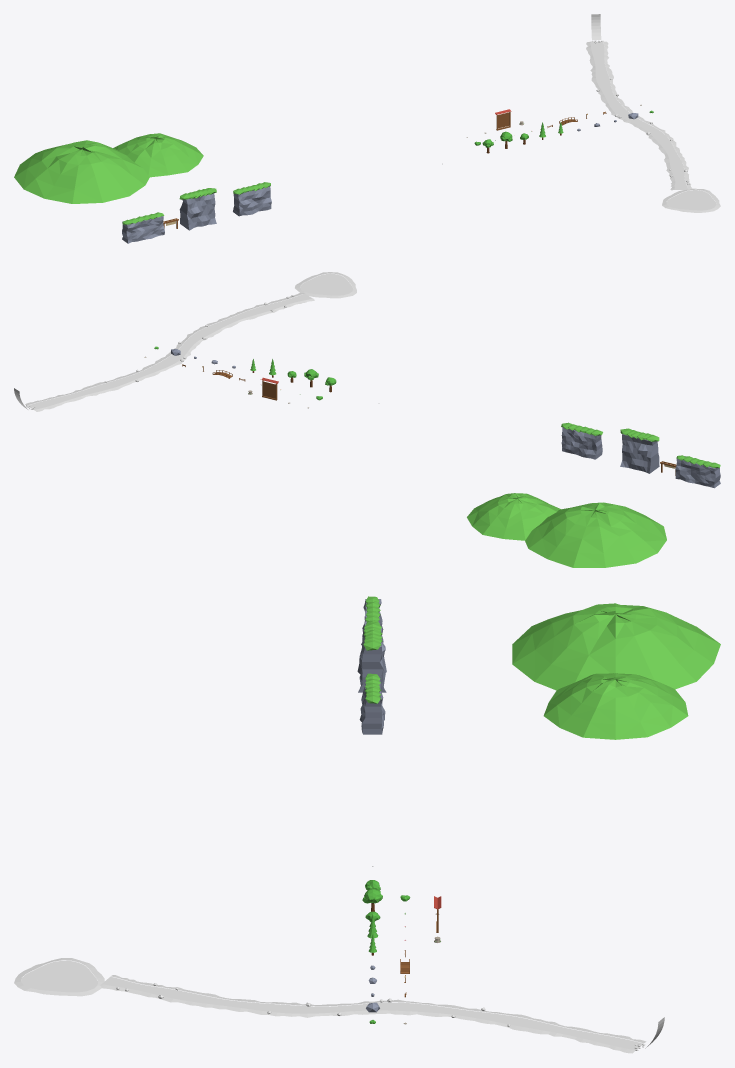
The model's file is MapKit.fbx.
3 views of the same model, one above another, from view 1: azimuth 30°, elevation 25°; view 2: azimuth 150°, elevation 25°; view 3: azimuth 270°, elevation 25° (orthographic). The views are drawn at different scales.
Visible parts, largest first — view 1: HillB_Grass, World_River_Water, HillA_Grass, World_River_Bank, CliffB_Rock, CliffA_Rock, CliffC_Rock; view 2: HillB_Grass, World_River_Water, HillA_Grass, World_River_Bank, CliffB_Rock, CliffA_Rock, CliffC_Rock; view 3: HillB_Grass, HillA_Grass, World_River_Water, World_River_Bank, CliffB_Rock, CliffA_Rock.
Part boxes in pixels (bbox=[...]): HillB_Grass: bbox=[14, 140, 149, 203]; World_River_Water: bbox=[590, 41, 716, 210]; HillA_Grass: bbox=[113, 133, 203, 177]; World_River_Bank: bbox=[586, 41, 720, 212]; CliffB_Rock: bbox=[179, 193, 216, 230]; CliffA_Rock: bbox=[233, 186, 271, 216]; CliffC_Rock: bbox=[122, 216, 164, 243]; HillB_Grass: bbox=[525, 502, 666, 567]; World_River_Water: bbox=[28, 273, 353, 409]; HillA_Grass: bbox=[467, 493, 561, 540]; World_River_Bank: bbox=[25, 272, 356, 411]; CliffB_Rock: bbox=[620, 434, 659, 473]; CliffA_Rock: bbox=[561, 427, 602, 459]; CliffC_Rock: bbox=[675, 456, 720, 488]; HillB_Grass: bbox=[512, 603, 720, 690]; HillA_Grass: bbox=[543, 673, 688, 739]; World_River_Water: bbox=[21, 960, 642, 1049]; World_River_Bank: bbox=[14, 958, 646, 1053]; CliffB_Rock: bbox=[357, 628, 386, 692]; CliffA_Rock: bbox=[359, 680, 385, 734].
Bounding box in the file's own units: 1301 × 69.86 × 874.
